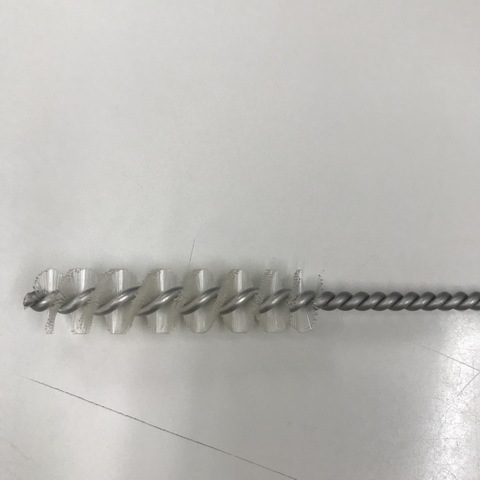Twist Brush-B: (19, 267, 480, 335)
